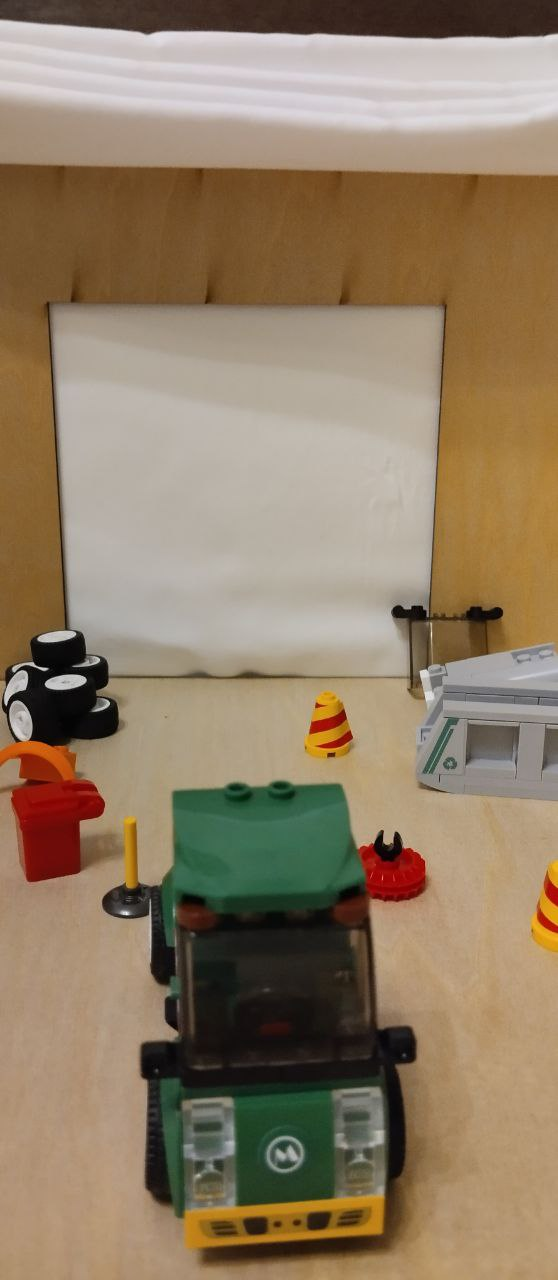Cone: (300, 686, 361, 759), (525, 857, 558, 949)
Object Red: (1, 774, 115, 890)
Truck: (137, 778, 443, 1255)
